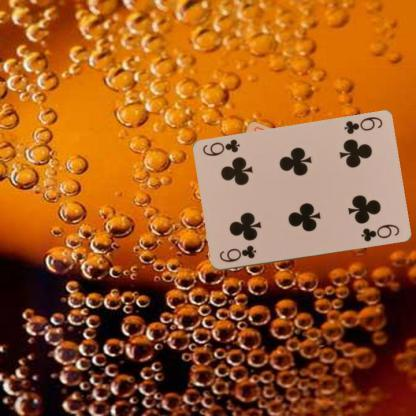6c: (341, 114, 384, 136), (216, 243, 258, 264)
